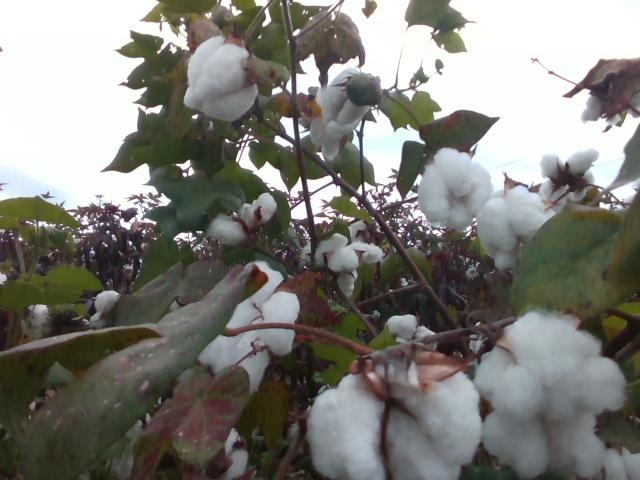cotton_ready: (475, 309, 627, 480), (309, 358, 482, 480), (196, 258, 300, 396), (474, 185, 559, 274), (185, 36, 257, 121), (311, 66, 374, 161), (419, 149, 491, 227), (205, 192, 278, 244), (301, 233, 358, 298), (540, 149, 600, 201)
